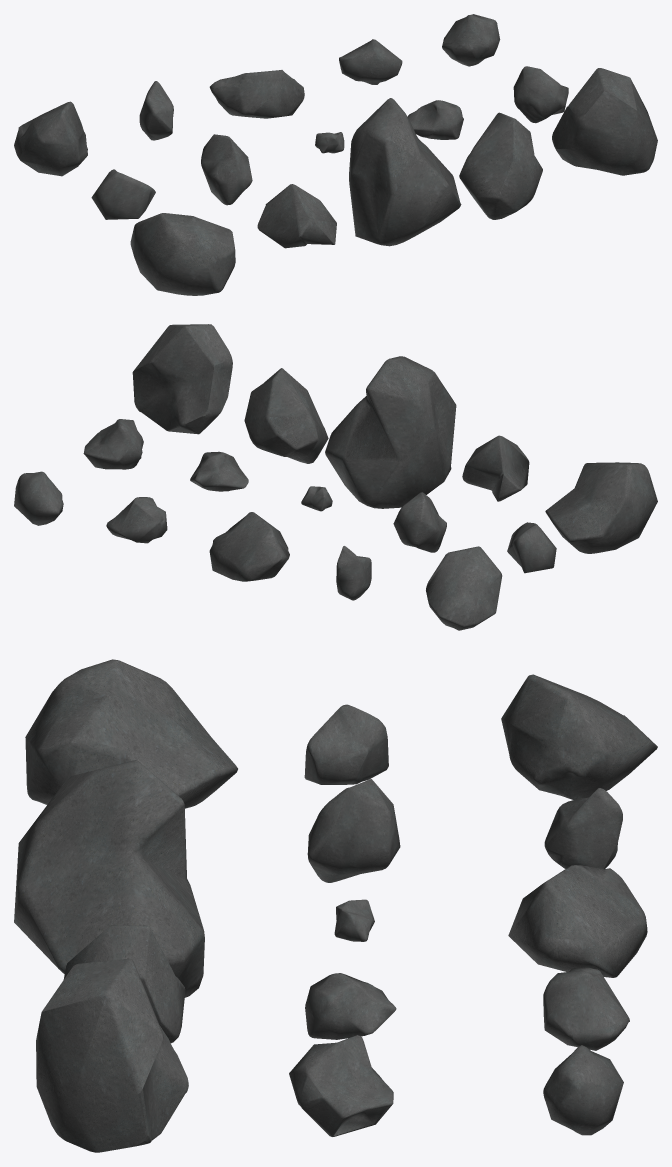
The model's file is moonrock.obj.
3 renders of one model, top to bottom at view 1: azimuth 30°, elevation 25°; view 2: azimuth 150°, elevation 25°; view 3: azimuth 270°, elevation 25°, orthographic. The views are drawn at different scales.
Parts seen in each view (by area): view 1: rock.014, rock.012, rock.016, rock.013, rock.006, rock.004, rock.015, rock.010, rock.002, rock.007, rock.011, rock.003 (+3 smaller); view 2: rock.014, rock.012, rock.016, rock.013, rock.006, rock.004, rock.015, rock.007, rock.010, rock.002, rock.003, rock.011 (+3 smaller); view 3: rock.014, rock.012, rock.016, rock.006, rock.004, rock.007, rock.010, rock.003, rock.011, rock.002, rock.013, rock.005 (+2 smaller).
Boxes of the visible parts, x1,y1,x2,y2 form: rock.014: (349,98,461,246); rock.012: (552,68,657,175); rock.016: (130,213,235,295); rock.013: (459,112,542,219); rock.006: (14,101,87,176); rock.004: (209,70,304,118); rock.015: (257,184,336,248); rock.010: (201,134,252,205); rock.002: (442,14,500,66); rock.007: (513,66,568,123); rock.011: (91,169,155,219); rock.003: (339,39,402,84); rock.014: (325,356,456,508); rock.012: (132,324,232,434); rock.016: (545,462,657,553); rock.013: (244,368,328,463); rock.006: (426,546,502,630); rock.004: (209,512,289,581); rock.015: (462,435,529,501); rock.007: (83,419,143,469); rock.010: (393,492,446,552); rock.002: (14,471,63,525); rock.003: (106,497,167,543); rock.011: (507,522,556,573); rock.014: (14,760,204,997); rock.012: (36,958,188,1152); rock.016: (25,659,237,808); rock.006: (501,674,657,799); rock.004: (508,865,647,977); rock.007: (289,1035,393,1136); rock.010: (307,779,400,882); rock.003: (543,967,629,1050); rock.011: (304,704,388,784); rock.002: (543,1045,623,1135); rock.013: (63,925,185,1043); rock.005: (544,788,622,869).
Size of the model in its own units: 14.34 by 3.73 by 9.46.
Materials: 1 (1 with a texture image).
